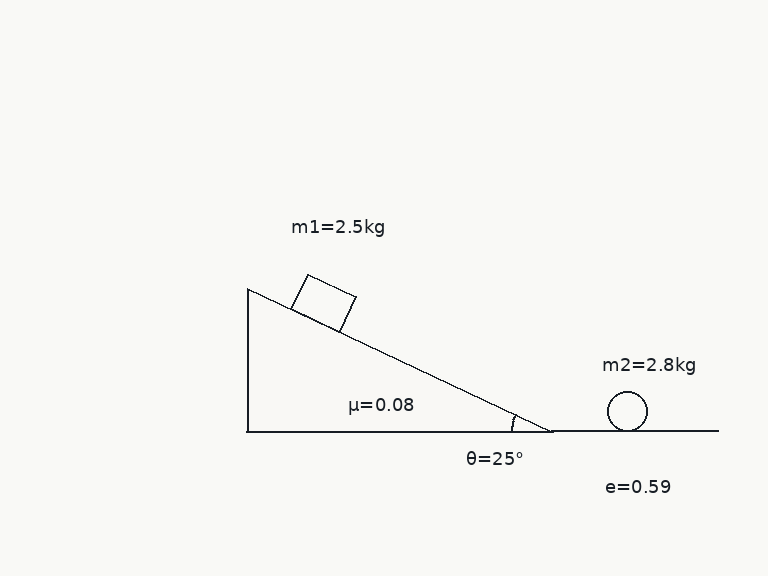ball: (605, 389, 649, 433)
block: (288, 272, 357, 334)
ramp: (245, 287, 554, 433)
